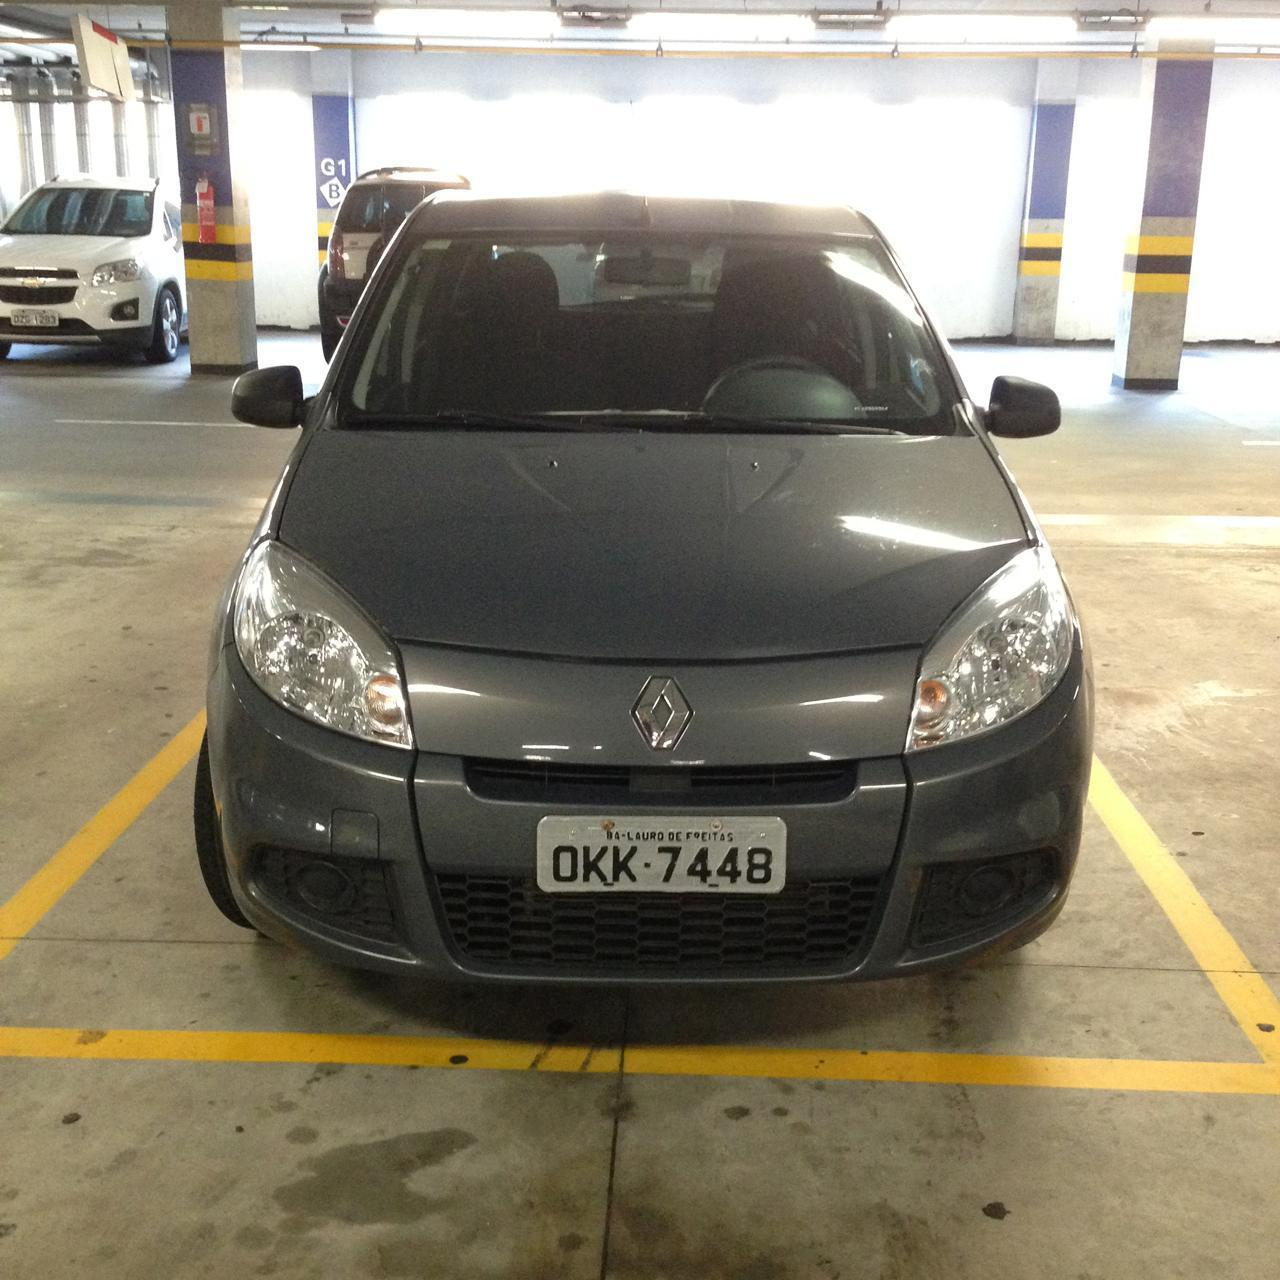placa de veiculo: (525, 779, 806, 921), (1, 288, 71, 347)
